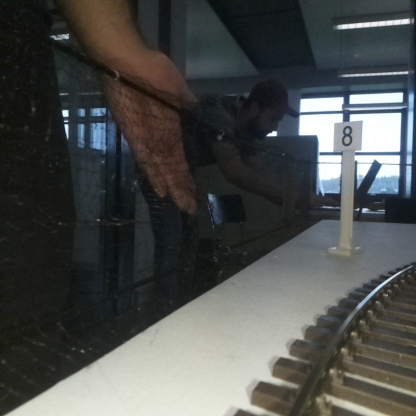white-info-8: (334, 123, 362, 256)
